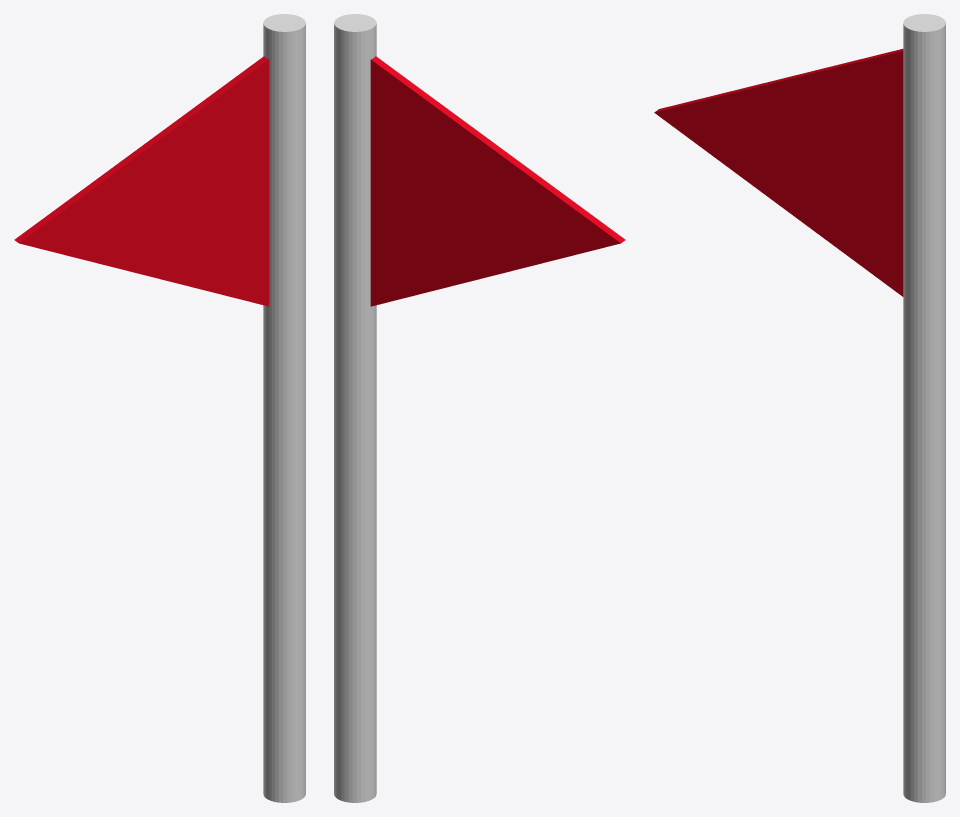
Rendered from flag.gltf.
3 renders of one model, left to right at view 1: azimuth 30°, elevation 25°; view 2: azimuth 150°, elevation 25°; view 3: azimuth 330°, elevation 25°, orthographic.
Visible parts, largest first — view 1: Plane, Cylinder; view 2: Plane, Cylinder; view 3: Cylinder, Plane.
Boxes of the visible parts, box(x1,y1,x2,y2) form: Plane: box(14, 56, 269, 306); Cylinder: box(263, 14, 305, 802); Plane: box(370, 56, 625, 306); Cylinder: box(334, 14, 376, 802); Cylinder: box(903, 14, 945, 802); Plane: box(654, 49, 903, 296).
Bounding box in the file's own units: 1.56 × 4 × 0.2.
